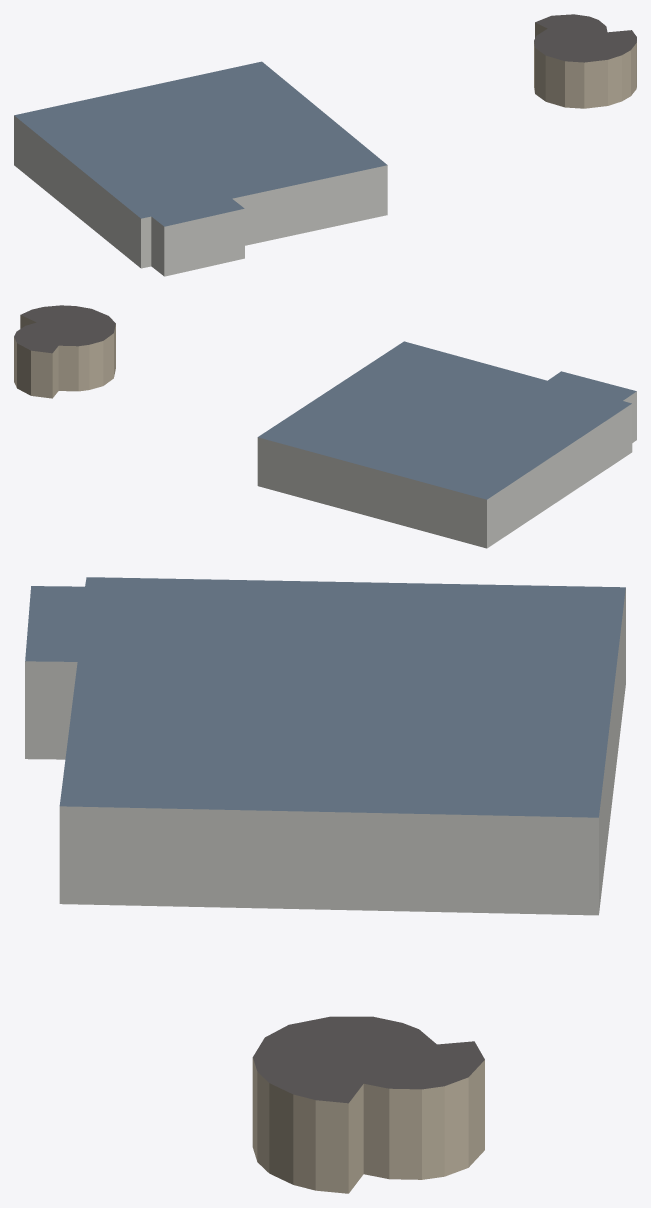
3 views of the same model, one above another, from view 1: azimuth 30°, elevation 25°; view 2: azimuth 150°, elevation 25°; view 3: azimuth 270°, elevation 25° (orthographic). The views are drawn at different scales.
Visible parts, largest first — view 1: tuile; view 2: tuile; view 3: tuile.
Part boxes in pixels (x1=…): tuile: x1=14, y1=14, x2=636, y2=276; tuile: x1=14, y1=305, x2=636, y2=548; tuile: x1=25, y1=577, x2=625, y2=1193.
Size of the model in its own units: 84.2 by 7.71 by 40.1.
